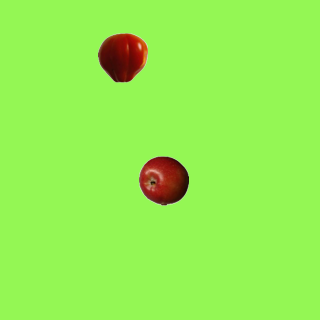Apple Braeburn: (138, 155, 188, 205)
Tomato 1: (97, 32, 147, 82)
